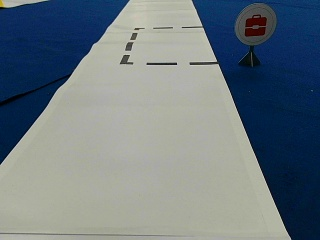company: (234, 4, 276, 44)
